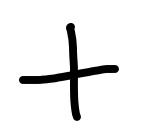plus: (19, 22, 119, 121)
